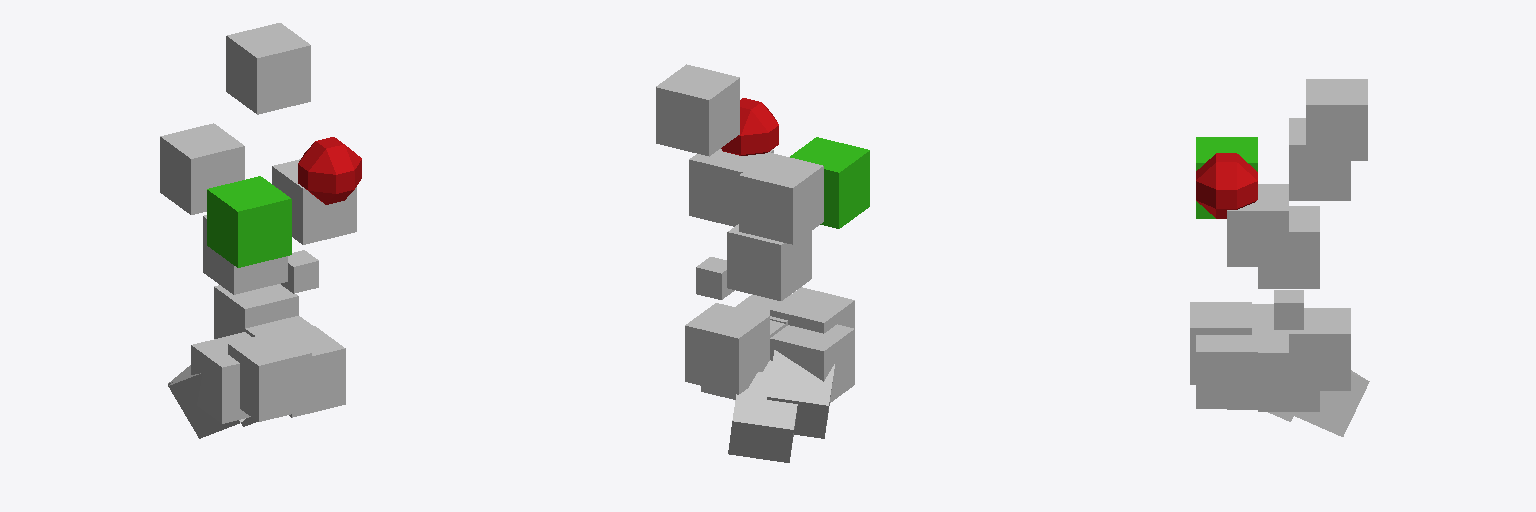
The model's file is HelloWorld.obj.
The picture shows the model from 3 angles: view 1: azimuth 30°, elevation 25°; view 2: azimuth 150°, elevation 25°; view 3: azimuth 270°, elevation 25°; orthographic projection.
Visible parts, largest first — view 1: 立方体_立方体.225, 立方体.015_立方体.240, 立方体.011_立方体.236, 立方体.012_立方体.237, 立方体.002_立方体.227, 立方体.014_立方体.239, 立方体.003_立方体.228, 立方体.004_立方体.229, 立方体.007_立方体.232, 立方体.009_立方体.234, 立方体.013_立方体.238, 立方体.001_立方体.226 (+1 smaller); view 2: 立方体.012_立方体.237, 立方体_立方体.225, 立方体.004_立方体.229, 立方体.009_立方体.234, 立方体.008_立方体.233, 立方体.015_立方体.240, 立方体.014_立方体.239, 立方体.002_立方体.227, 立方体.013_立方体.238, 立方体.011_立方体.236, 立方体.003_立方体.228, 立方体.001_立方体.226 (+2 smaller); view 3: 立方体_立方体.225, 立方体.002_立方体.227, 立方体.006_立方体.231, 立方体.004_立方体.229, 立方体.007_立方体.232, 立方体.009_立方体.234, 立方体.012_立方体.237, 立方体.003_立方体.228, 立方体.011_立方体.236, 立方体.008_立方体.233, 立方体.005_立方体.230, 立方体.015_立方体.240 (+1 smaller).
Boxes of the visible parts, box(x1,y1,x2,y2) form: 立方体_立方体.225: box(226, 23, 310, 114); 立方体.015_立方体.240: box(207, 176, 291, 267); 立方体.011_立方体.236: box(228, 330, 311, 421); 立方体.012_立方体.237: box(160, 123, 244, 214); 立方体.002_立方体.227: box(272, 159, 356, 244); 立方体.014_立方体.239: box(191, 332, 250, 423); 立方体.003_立方体.228: box(298, 137, 361, 204); 立方体.004_立方体.229: box(214, 284, 298, 338); 立方体.007_立方体.232: box(286, 326, 345, 417); 立方体.009_立方体.234: box(203, 215, 287, 294); 立方体.013_立方体.238: box(168, 368, 245, 438); 立方体.001_立方体.226: box(281, 250, 318, 293); 立方体.012_立方体.237: box(739, 153, 823, 244); 立方体_立方体.225: box(656, 64, 739, 156); 立方体.004_立方体.229: box(685, 303, 769, 394); 立方体.009_立方体.234: box(727, 224, 811, 300); 立方体.008_立方体.233: box(728, 372, 797, 462); 立方体.015_立方体.240: box(790, 137, 869, 228); 立方体.014_立方体.239: box(770, 324, 854, 402); 立方体.002_立方体.227: box(689, 149, 773, 226); 立方体.013_立方体.238: box(767, 350, 834, 438); 立方体.011_立方体.236: box(770, 287, 854, 333); 立方体.003_立方体.228: box(721, 98, 778, 155); 立方体.001_立方体.226: box(696, 257, 734, 299); 立方体_立方体.225: box(1306, 79, 1367, 160); 立方体.002_立方体.227: box(1227, 184, 1288, 266); 立方体.006_立方体.231: box(1227, 327, 1288, 409); 立方体.004_立方体.229: box(1289, 308, 1350, 390); 立方体.007_立方体.232: box(1196, 326, 1257, 408); 立方体.009_立方体.234: box(1258, 206, 1319, 288); 立方体.012_立方体.237: box(1289, 118, 1350, 200); 立方体.003_立方体.228: box(1196, 153, 1257, 218); 立方体.011_立方体.236: box(1190, 302, 1251, 384); 立方体.008_立方体.233: box(1294, 370, 1369, 436); 立方体.005_立方体.230: box(1258, 355, 1319, 411); 立方体.015_立方体.240: box(1196, 137, 1257, 218).
Size of the model in its own units: 0.7589 by 1.8 by 0.7941.